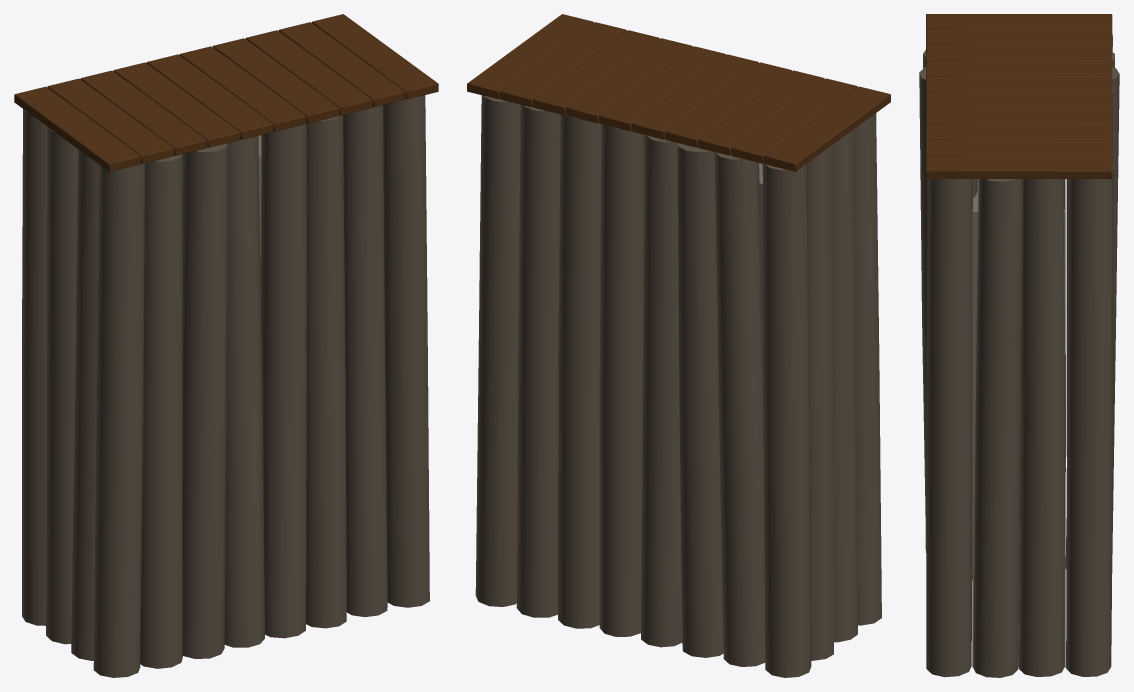
The model's file is festung_holz_2m.glb.
3 renders of one model, left to right at view 1: azimuth 30°, elevation 25°; view 2: azimuth 150°, elevation 25°; view 3: azimuth 270°, elevation 25°, orthographic. The views are drawn at different scales.
Parts seen in each view (by area): view 1: festung_holz_2m; view 2: festung_holz_2m; view 3: festung_holz_2m.
Part boxes in pixels (x1=…): festung_holz_2m: x1=14, y1=14, x2=438, y2=677; festung_holz_2m: x1=467, y1=14, x2=890, y2=677; festung_holz_2m: x1=919, y1=14, x2=1119, y2=677.
Bounding box in the file's own units: 2.01 × 3.01 × 1.08.
